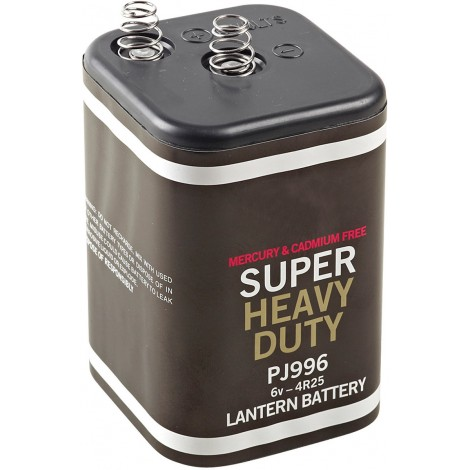6V: (73, 8, 398, 470)
